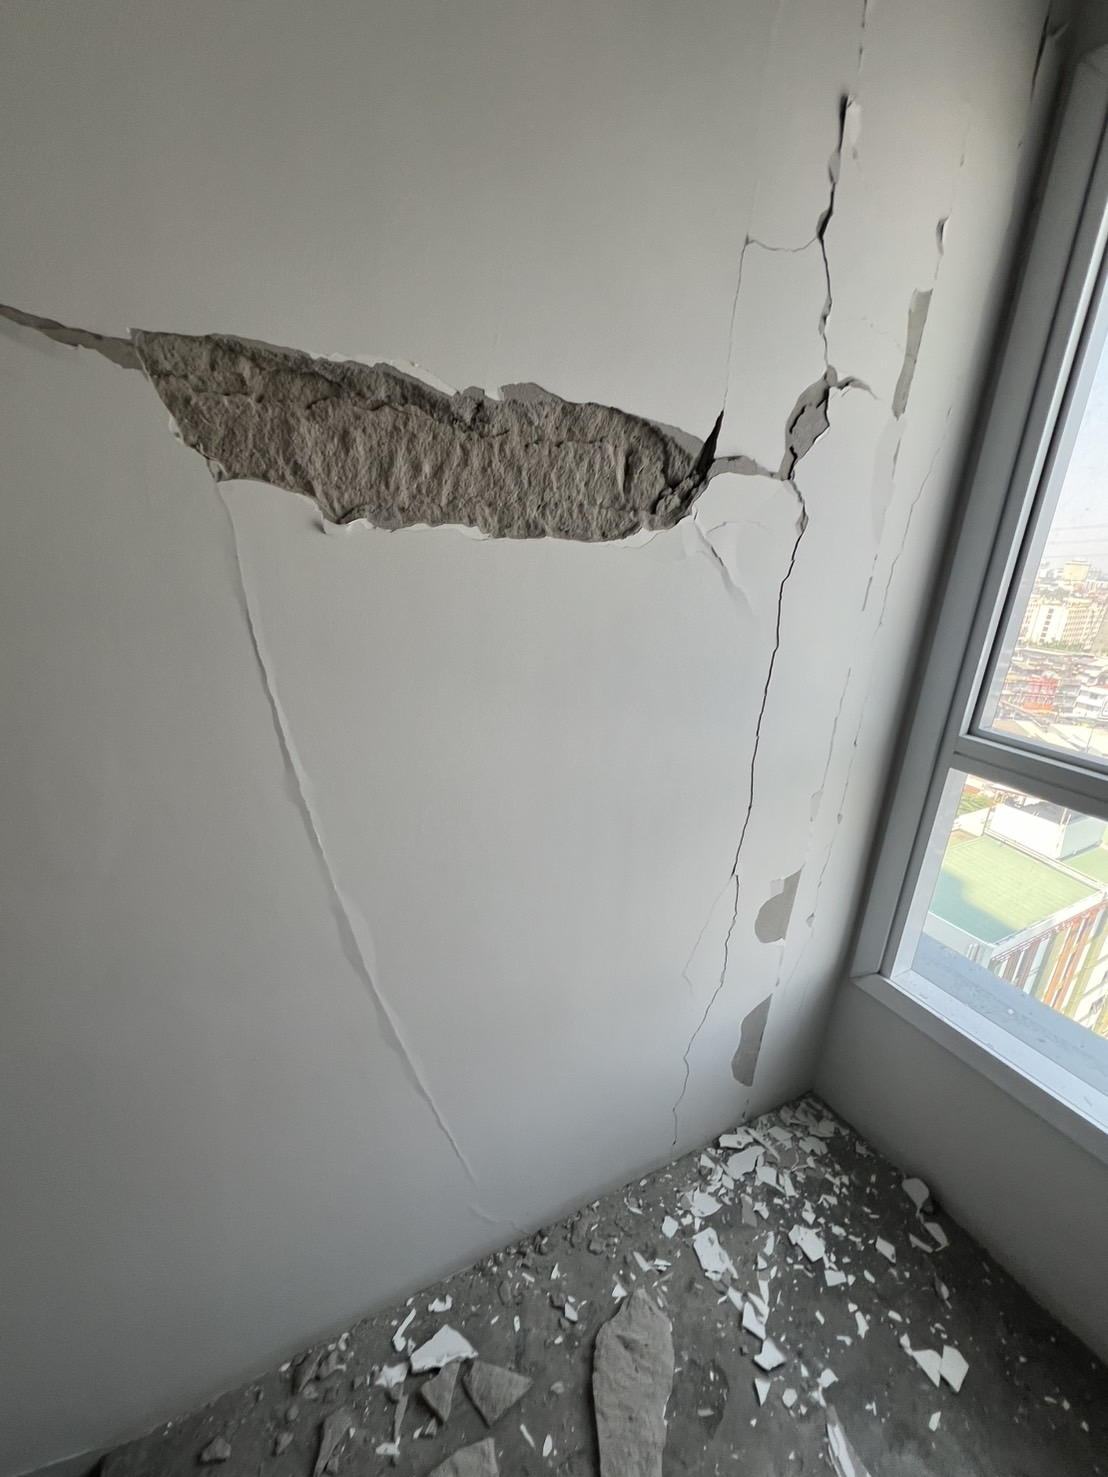Medium: (209, 253, 905, 667)
